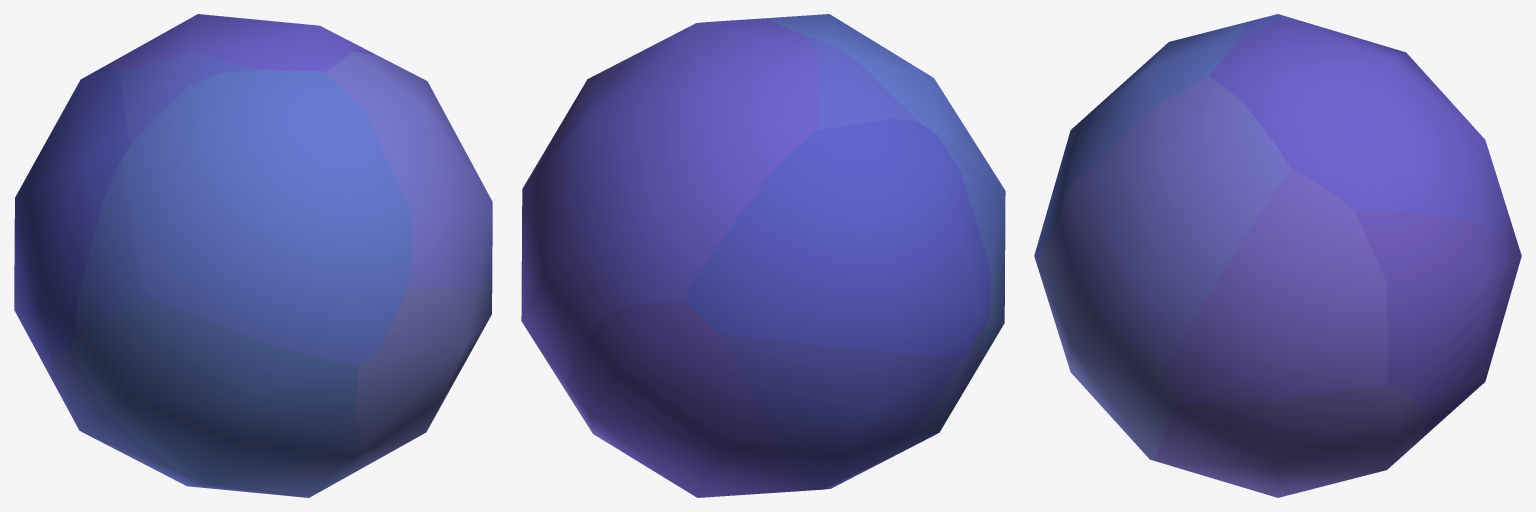
The model's file is simple_rbd_mesh.fbx.
The picture shows the model from 3 angles, left to right: view 1: azimuth 30°, elevation 25°; view 2: azimuth 150°, elevation 25°; view 3: azimuth 270°, elevation 25°; orthographic projection. The views are drawn at different scales.
Visible parts, largest first — view 1: REFERENCE_MESH; view 2: REFERENCE_MESH; view 3: REFERENCE_MESH.
Boxes of the visible parts, bbox=[...] form: REFERENCE_MESH: bbox=[14, 14, 492, 497]; REFERENCE_MESH: bbox=[521, 14, 1005, 497]; REFERENCE_MESH: bbox=[1034, 14, 1521, 497].
Bounding box in the file's own units: 200 × 190 × 200.
